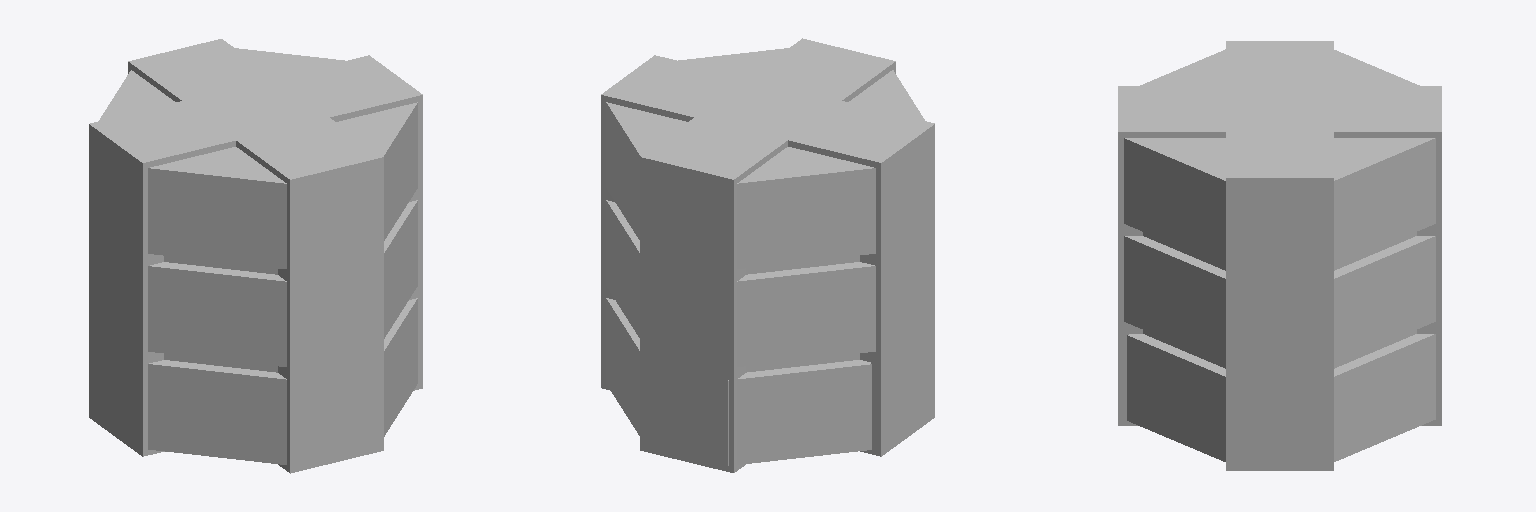
File: super_assembler.obj
3 renders of one model, left to right at view 1: azimuth 30°, elevation 25°; view 2: azimuth 150°, elevation 25°; view 3: azimuth 270°, elevation 25°, orthographic.
Visible parts, largest first — view 1: pillar1, pillar5, cube3, cube1, cube2, pillar4, cube6, front1, pillar2, cube5, cube4, thin1 (+1 smaller); view 2: pillar5, cube6, front1, cube5, cube4, front2, front3, pillar4, cube3, pillar1, pillar2, cube1 (+3 smaller); view 3: pillar4, cube6, cube3, cube5, cube2, cube1, cube4, pillar1, front1, pillar2, pillar5, front3 (+1 smaller).
Part boxes in pixels (x1,y1,x2,y2): pillar1: (236, 118, 383, 473); pillar5: (89, 101, 235, 456); cube3: (148, 48, 344, 268); cube1: (148, 360, 286, 464); cube2: (148, 262, 286, 366); pillar4: (276, 55, 422, 390); cube6: (99, 70, 417, 240); front1: (128, 39, 274, 101); pillar2: (183, 78, 329, 139); cube5: (384, 200, 417, 338); cube4: (384, 298, 417, 436); thin1: (164, 256, 277, 274); pillar5: (788, 101, 934, 456); cube6: (678, 48, 875, 268); front1: (640, 118, 787, 277); cube5: (737, 262, 875, 366); cube4: (728, 360, 871, 465); front2: (640, 255, 745, 375); front3: (640, 353, 745, 472); pillar4: (601, 55, 747, 390); cube3: (606, 70, 924, 239); pillar1: (749, 38, 895, 101); pillar2: (694, 78, 840, 139); cube1: (606, 298, 639, 435); pillar4: (1226, 132, 1333, 470); cube6: (1124, 50, 1419, 266); cube3: (1140, 49, 1435, 266); cube5: (1124, 236, 1225, 364); cube2: (1334, 236, 1435, 363); cube1: (1334, 334, 1435, 461); cube4: (1127, 334, 1225, 461); pillar1: (1118, 86, 1225, 425); front1: (1334, 86, 1441, 229); pillar2: (1226, 86, 1333, 131); pillar5: (1226, 41, 1333, 85); front3: (1417, 328, 1441, 425).
Size of the model in its own units: 3 by 3 by 3.